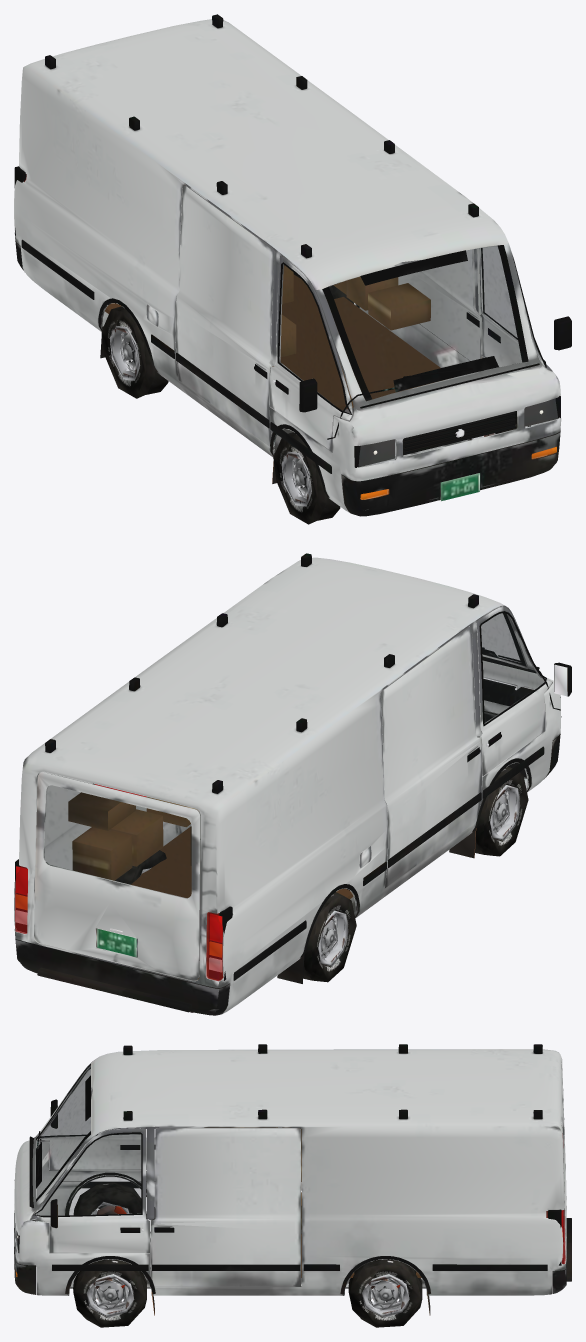
Rendered from hakobi_lod1.glb.
3 views of the same model, one above another, from view 1: azimuth 30°, elevation 25°; view 2: azimuth 150°, elevation 25°; view 3: azimuth 270°, elevation 25° (orthographic). The views are drawn at different scales.
Parts seen in each view (by area): view 1: Body, Wheel_RR, Wheel_FR; view 2: Body, Wheel_RR, Wheel_FR, Wheel_RL; view 3: Body, Wheel_RL, Wheel_FL, Wheel_FR.
Part boxes in pixels (x1,y1,x2,y2): Body: (14, 14, 571, 516); Wheel_RR: (101, 306, 168, 398); Wheel_FR: (273, 432, 340, 524); Body: (14, 553, 571, 1015); Wheel_RR: (303, 892, 356, 982); Wheel_FR: (475, 766, 528, 856); Wheel_RL: (115, 850, 166, 884); Body: (14, 1044, 571, 1315); Wheel_RL: (348, 1259, 422, 1327); Wheel_FL: (73, 1259, 146, 1327); Wheel_FR: (73, 1182, 147, 1219).
Size of what is drawn, in the model's own units: 2.13 by 1.98 by 4.76.
2 materials, 2 textured.
